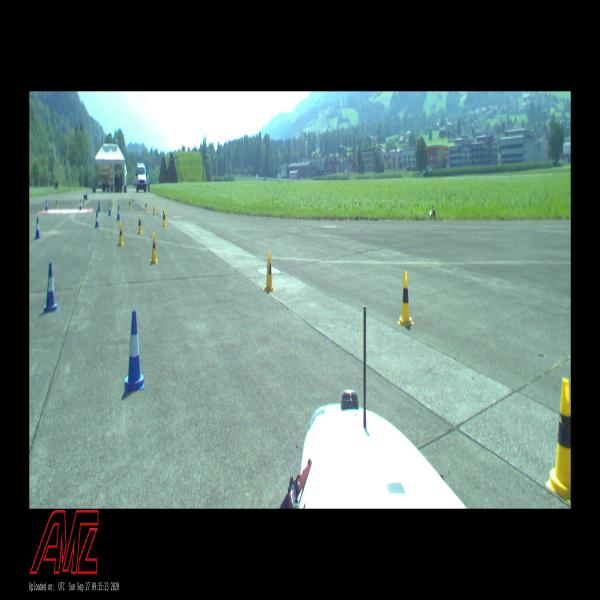blue_cone: (125, 309, 144, 391), (44, 263, 57, 312), (34, 217, 40, 239), (95, 211, 99, 227), (117, 205, 120, 220), (108, 202, 111, 215), (79, 199, 82, 210), (45, 200, 48, 210)
yellow_cone: (546, 378, 570, 503), (397, 271, 414, 326), (264, 251, 275, 292), (150, 233, 158, 264), (118, 221, 124, 246), (138, 215, 142, 234), (163, 210, 166, 226), (162, 205, 165, 220), (55, 198, 58, 208), (145, 200, 147, 212), (153, 203, 155, 215), (129, 199, 131, 209), (83, 198, 85, 208), (112, 199, 114, 208)
